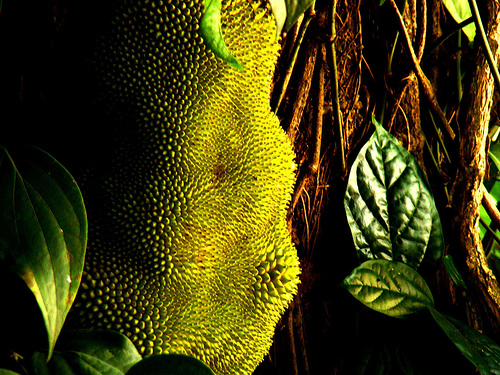jackfruit: (0, 0, 300, 374)
